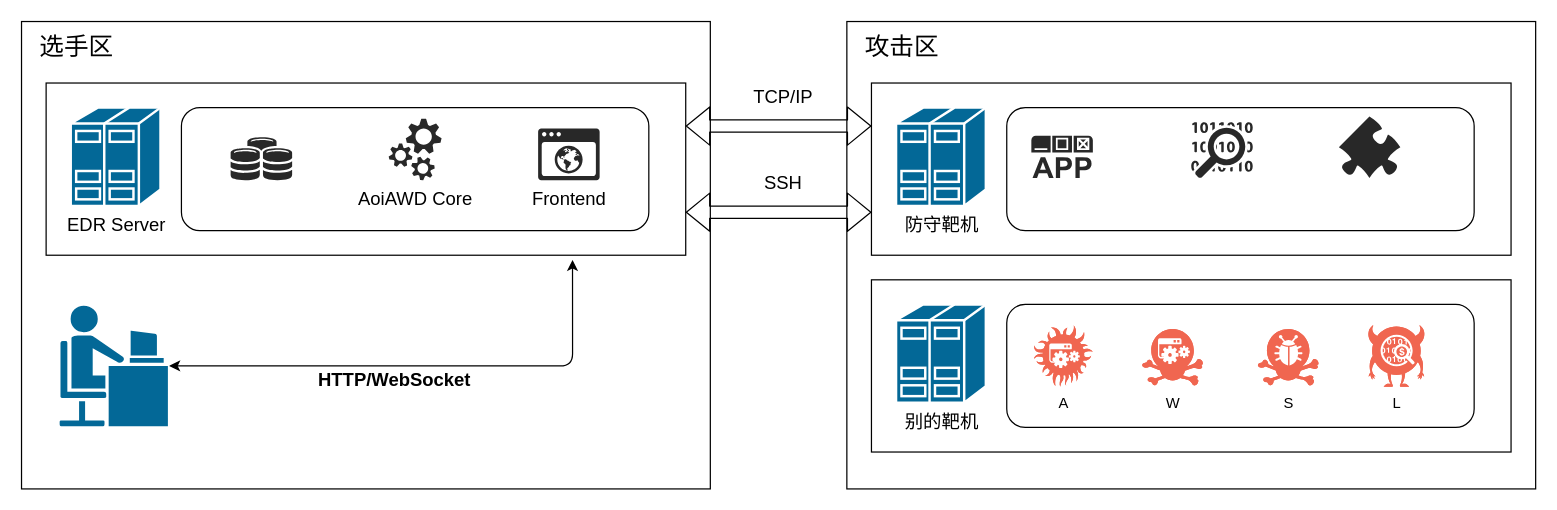
Image size: 1557x510. Some labels were removed from this diagram. Each missing label, with the box of its shape:
Guardian PWN行为探针: (1191, 122, 1252, 177)
MongoDB Server: (230, 137, 292, 180)
RoundWorm 进程/文件探针: (1338, 116, 1400, 177)
TapeWorm Web行为探针: (1031, 135, 1092, 177)
参赛选手: (57, 303, 170, 428)
